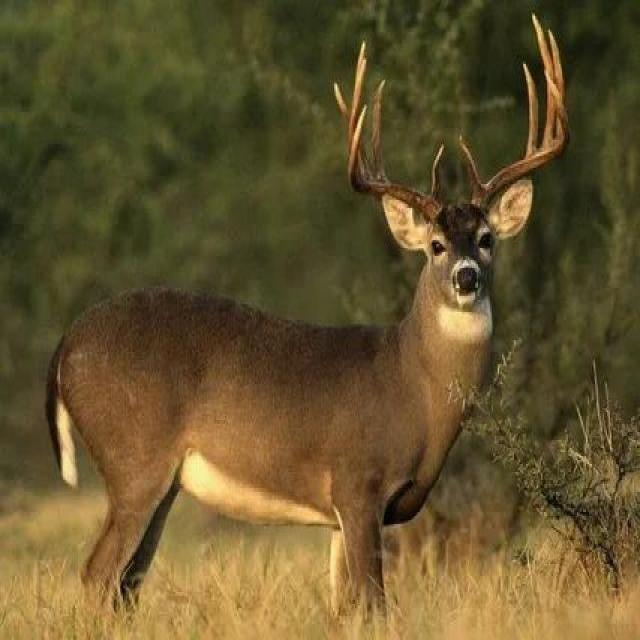deer: (93, 94, 590, 586)
